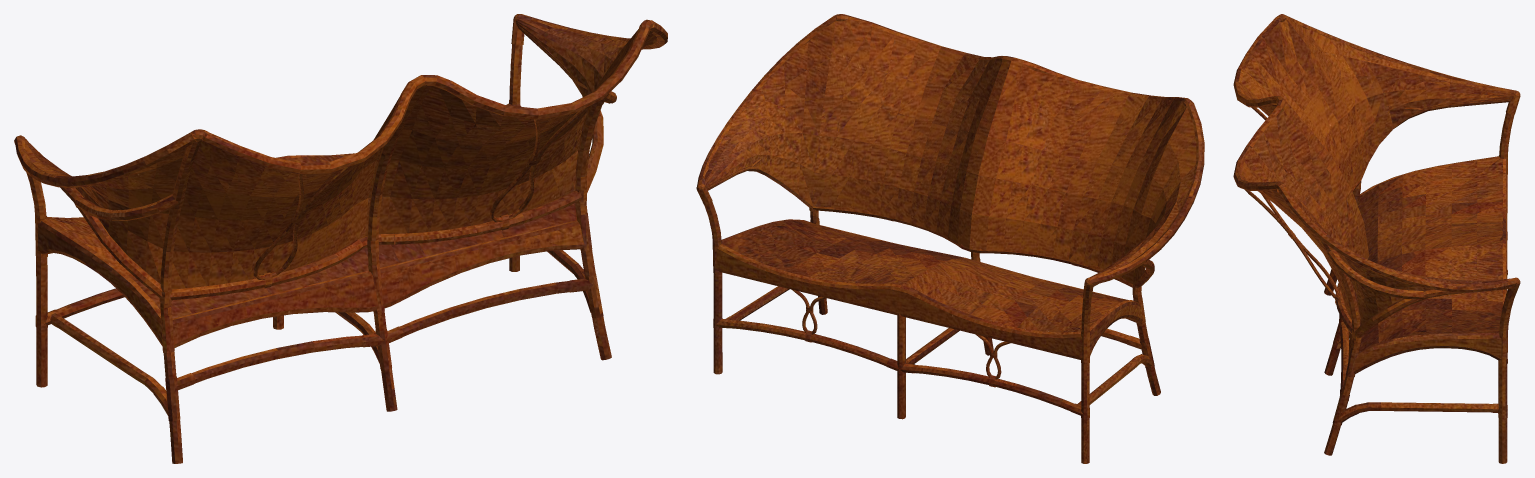
3 views of the same model, side by side, from view 1: azimuth 30°, elevation 25°; view 2: azimuth 150°, elevation 25°; view 3: azimuth 270°, elevation 25° (orthographic). The views are drawn at different scales.
Parts seen in each view (by area): view 1: mesh1_mesh1-geometry, mesh71_mesh71-geometry, mesh77_mesh77-geometry, mesh78_mesh78-geometry, mesh25_mesh25-geometry, mesh73_mesh73-geometry, mesh79_mesh79-geometry, mesh21_mesh21-geometry, mesh69_mesh69-geometry, mesh65_mesh65-geometry, mesh2_mesh2-geometry, mesh27_mesh27-geometry (+9 smaller); view 2: mesh1_mesh1-geometry, mesh77_mesh77-geometry, mesh74_mesh74-geometry, mesh67_mesh67-geometry, mesh66_mesh66-geometry, mesh8_mesh8-geometry, mesh76_mesh76-geometry, mesh27_mesh27-geometry, mesh78_mesh78-geometry, mesh25_mesh25-geometry, mesh68_mesh68-geometry, mesh28_mesh28-geometry (+3 smaller); view 3: mesh1_mesh1-geometry, mesh77_mesh77-geometry, mesh6_mesh6-geometry, mesh9_mesh9-geometry, mesh8_mesh8-geometry, mesh2_mesh2-geometry, mesh82_mesh82-geometry, mesh5_mesh5-geometry, mesh4_mesh4-geometry, mesh24_mesh24-geometry, mesh7_mesh7-geometry, mesh65_mesh65-geometry (+3 smaller).
Part boxes in pixels (x1,y1,x2,y2): mesh1_mesh1-geometry: (14, 14, 667, 289); mesh71_mesh71-geometry: (173, 225, 584, 347); mesh77_mesh77-geometry: (46, 104, 576, 318); mesh78_mesh78-geometry: (170, 190, 582, 300); mesh25_mesh25-geometry: (38, 219, 162, 344); mesh73_mesh73-geometry: (172, 220, 579, 323); mesh79_mesh79-geometry: (367, 85, 426, 411); mesh21_mesh21-geometry: (160, 140, 200, 463); mesh69_mesh69-geometry: (191, 335, 365, 383); mesh65_mesh65-geometry: (400, 280, 573, 336); mesh2_mesh2-geometry: (575, 28, 654, 360); mesh27_mesh27-geometry: (26, 172, 47, 387); mesh1_mesh1-geometry: (696, 14, 1204, 298); mesh77_mesh77-geometry: (722, 219, 1128, 332); mesh74_mesh74-geometry: (716, 248, 1082, 359); mesh67_mesh67-geometry: (727, 320, 889, 366); mesh66_mesh66-geometry: (911, 364, 1073, 411); mesh8_mesh8-geometry: (704, 202, 722, 374); mesh76_mesh76-geometry: (717, 244, 884, 289); mesh27_mesh27-geometry: (1081, 297, 1091, 463); mesh78_mesh78-geometry: (813, 206, 1133, 287); mesh25_mesh25-geometry: (1089, 300, 1142, 355); mesh68_mesh68-geometry: (897, 313, 905, 419); mesh28_mesh28-geometry: (1079, 354, 1145, 404); mesh1_mesh1-geometry: (1233, 14, 1520, 324); mesh77_mesh77-geometry: (1356, 156, 1502, 350); mesh6_mesh6-geometry: (1353, 333, 1501, 371); mesh9_mesh9-geometry: (1356, 402, 1492, 412); mesh8_mesh8-geometry: (1498, 296, 1514, 463); mesh2_mesh2-geometry: (1277, 189, 1360, 455); mesh82_mesh82-geometry: (1244, 189, 1340, 300); mesh5_mesh5-geometry: (1354, 282, 1513, 337); mesh4_mesh4-geometry: (1332, 250, 1403, 297); mesh24_mesh24-geometry: (1361, 99, 1510, 178); mesh7_mesh7-geometry: (1353, 346, 1500, 374); mesh65_mesh65-geometry: (1339, 325, 1349, 388).
Bounding box in the file's own units: 0.7735 × 0.4613 × 0.4347.
